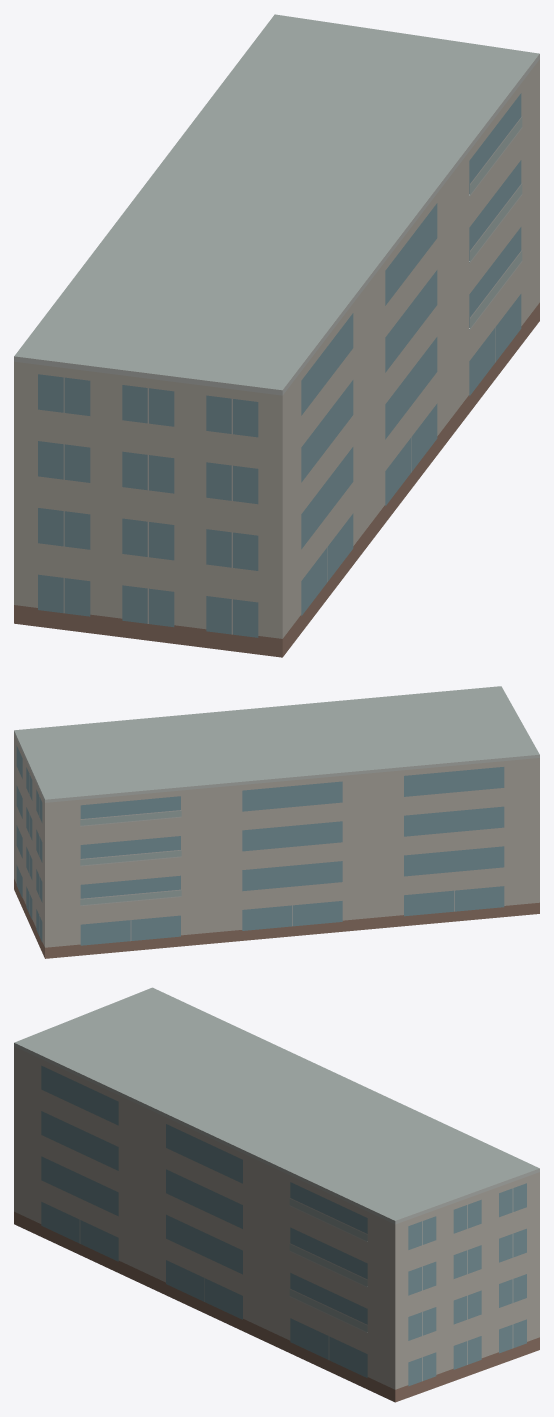
The model's file is survey-upis-32866440.glb.
3 views of the same model, one above another, from view 1: azimuth 30°, elevation 25°; view 2: azimuth 150°, elevation 25°; view 3: azimuth 270°, elevation 25° (orthographic). The views are drawn at different scales.
Parts seen in each view (by area): view 1: survey-upis-32866440.tmp; view 2: survey-upis-32866440.tmp; view 3: survey-upis-32866440.tmp.
Part boxes in pixels (box(x1,y1,x2,y2)): survey-upis-32866440.tmp: box(14, 14, 539, 657); survey-upis-32866440.tmp: box(14, 686, 539, 958); survey-upis-32866440.tmp: box(14, 987, 539, 1402).
Bounding box in the file's own units: 33.66 × 12.2 × 32.04.
